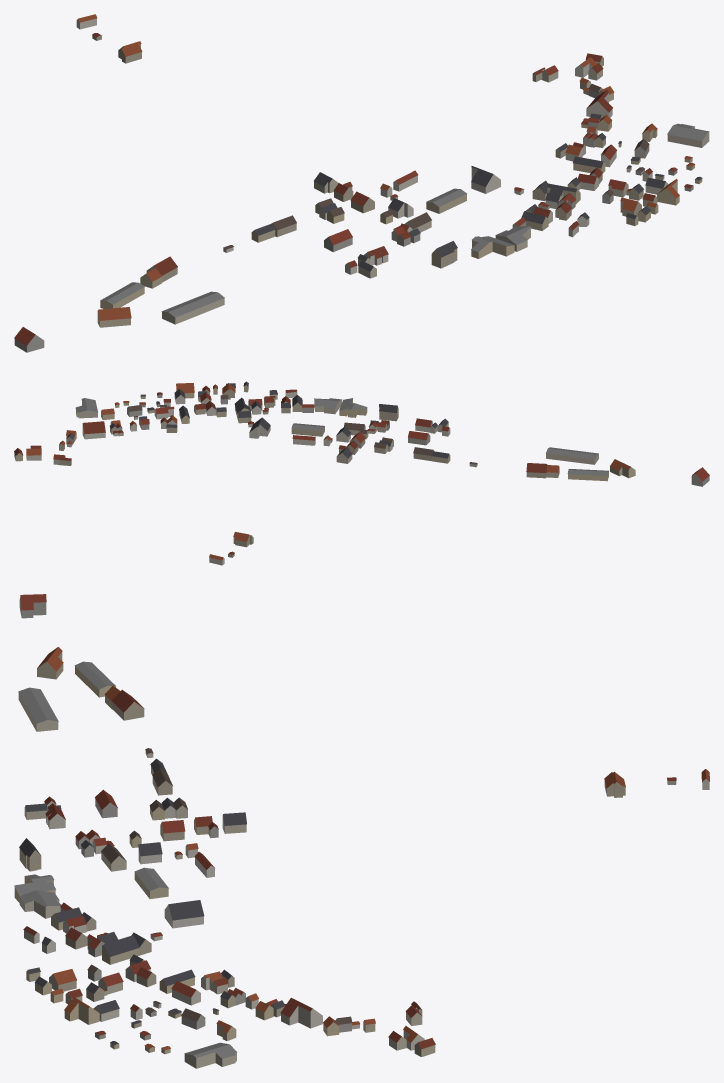
3 views of the same model, one above another, from view 1: azimuth 30°, elevation 25°; view 2: azimuth 150°, elevation 25°; view 3: azimuth 270°, elevation 25° (orthographic). The views are drawn at different scales.
Parts seen in each view (by area): view 1: buildings; view 2: buildings; view 3: buildings.
Boxes of the visible parts, x1,y1,x2,y2 form: buildings: (14,14,709,352); buildings: (14,381,709,565); buildings: (14,594,709,1068).
Size of the model in its own units: 658 by 53.61 by 453.
